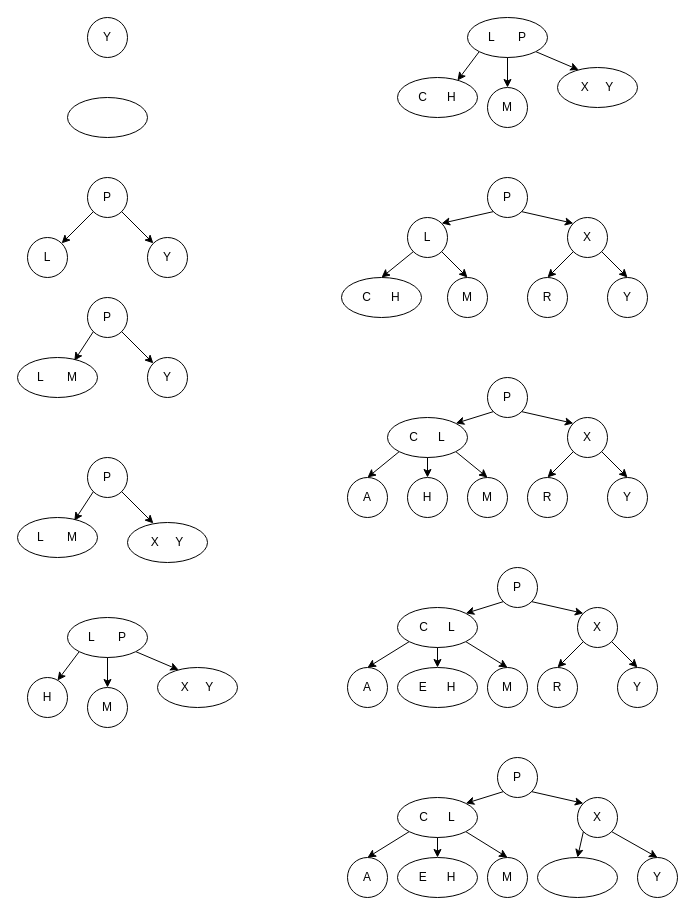
This 695x915 diagram has some shape labels left out. The box of each missing label's shape, as (x1, y1, x2, y2) in pixels:
L Y: (66, 96, 148, 138)
R S: (536, 856, 618, 898)
